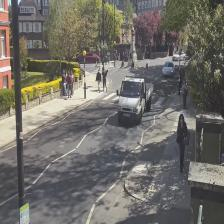person: (177, 113, 187, 172)
